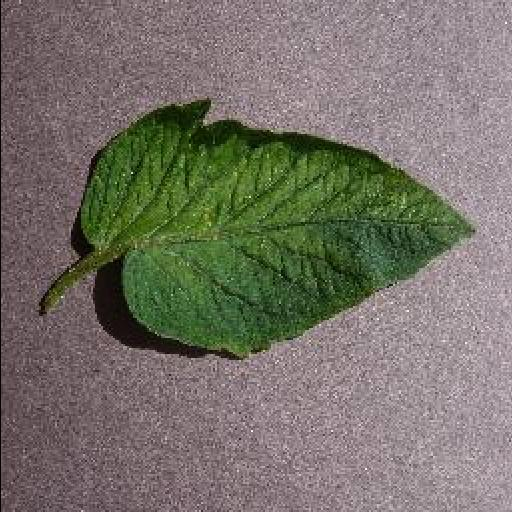disease_tomato: (80, 102, 474, 358)
